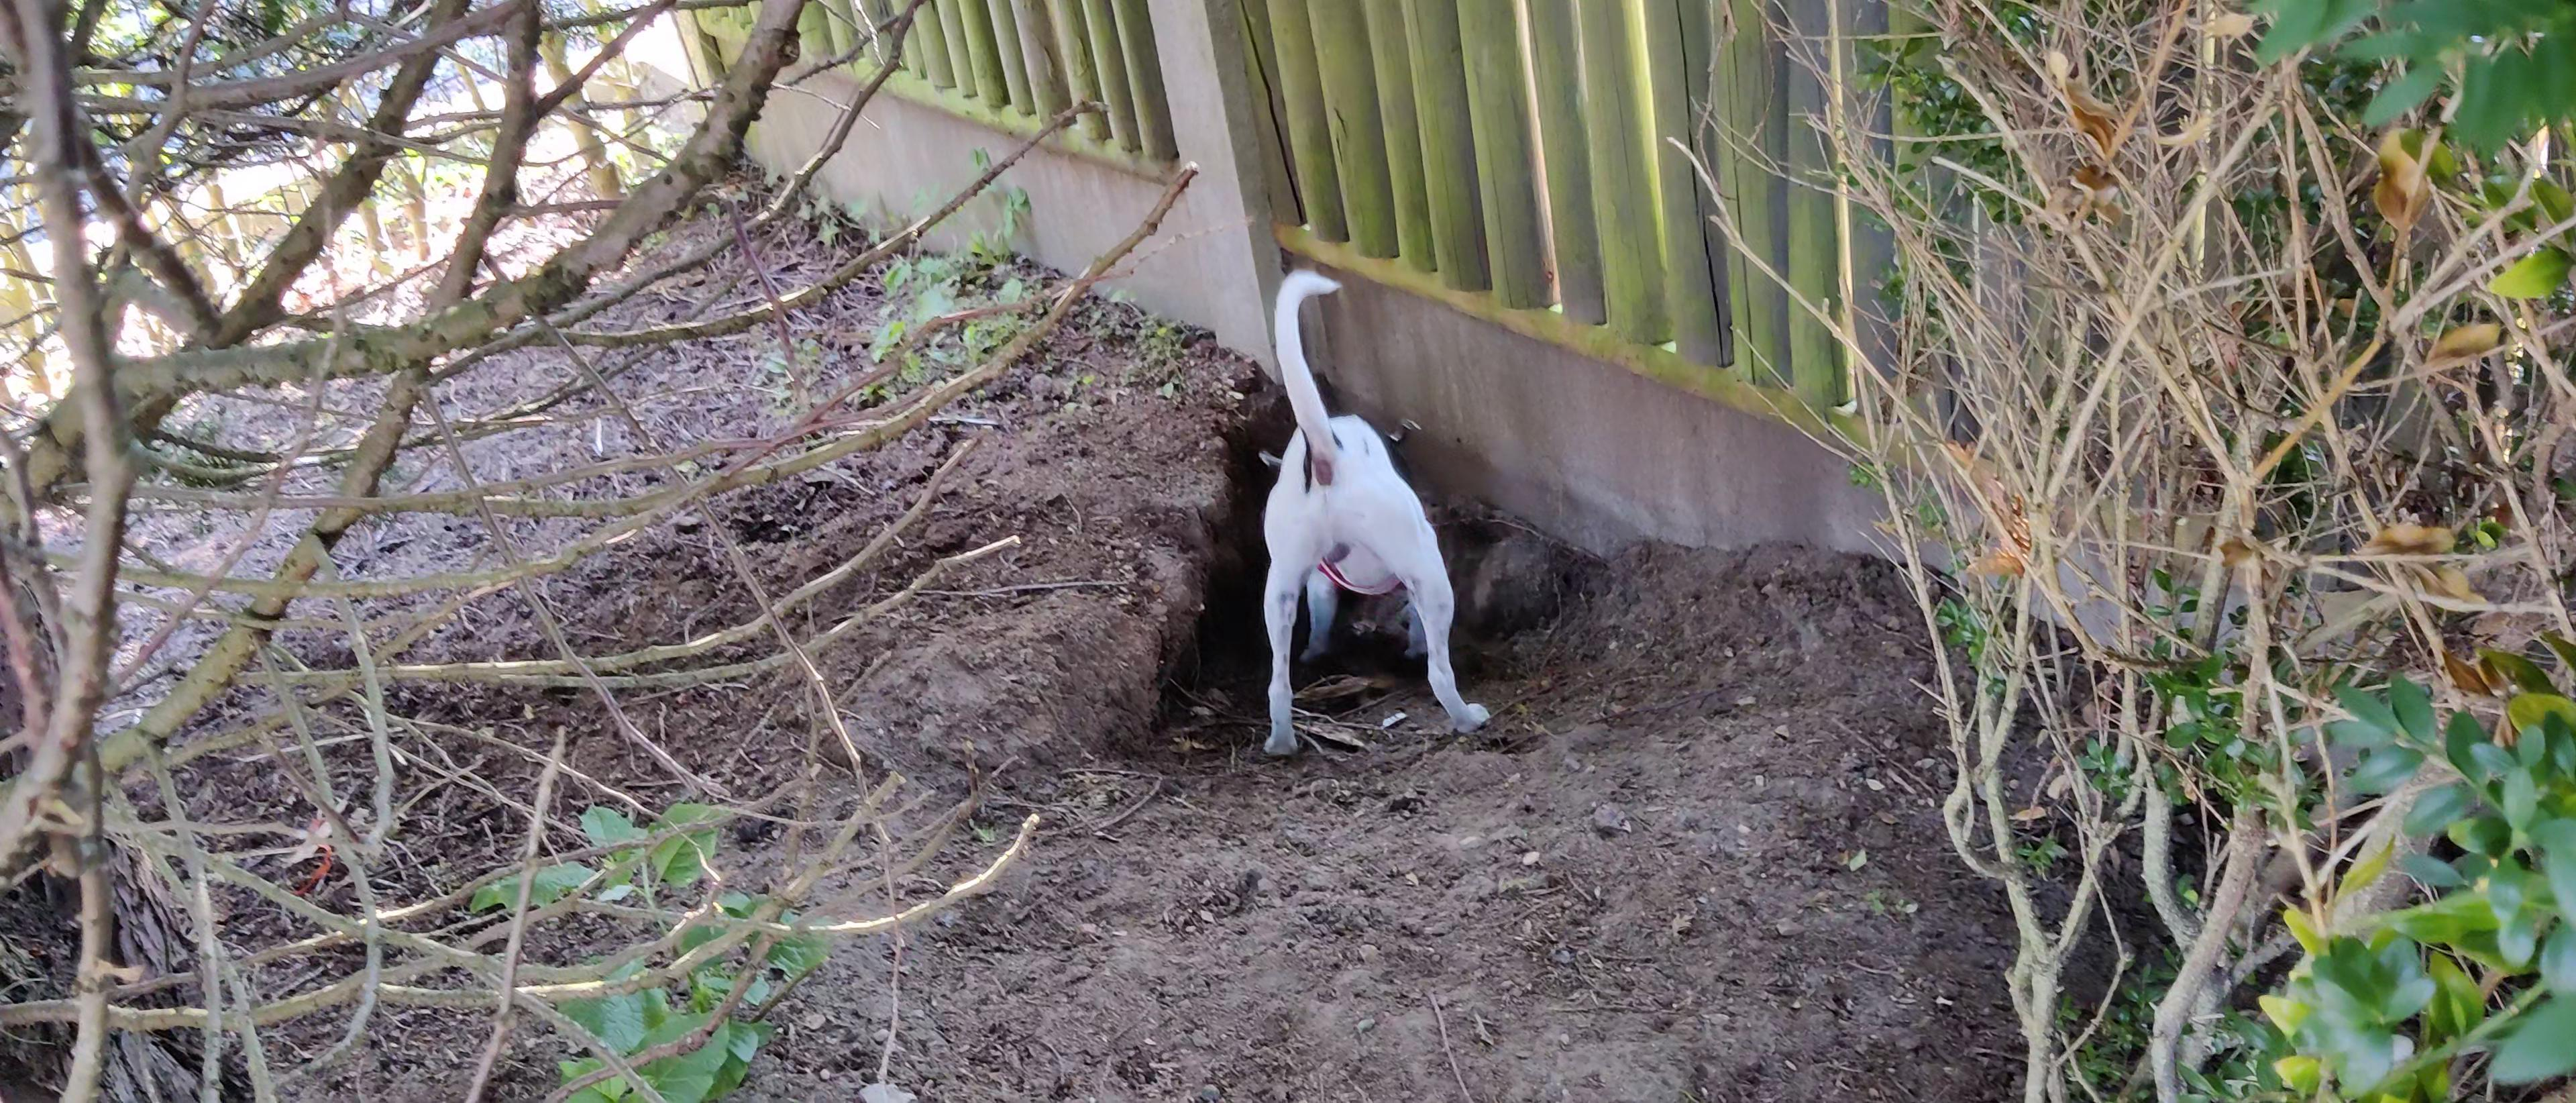Dog: (1232, 263, 1510, 768)
